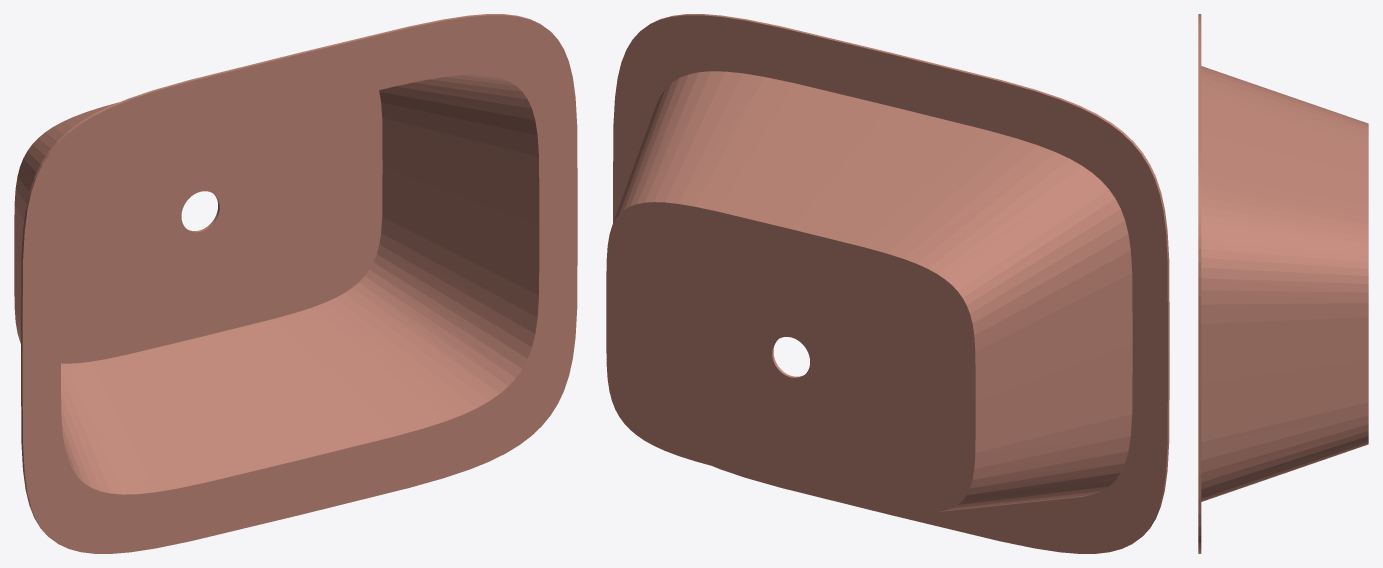
3 renders of one model, left to right at view 1: azimuth 30°, elevation 25°; view 2: azimuth 150°, elevation 25°; view 3: azimuth 270°, elevation 25°, orthographic. The views are drawn at different scales.
Parts seen in each view (by area): view 1: geometry_0; view 2: geometry_0; view 3: geometry_0.
Part boxes in pixels (x1=…): geometry_0: x1=14, y1=14, x2=577, y2=553; geometry_0: x1=606, y1=14, x2=1169, y2=553; geometry_0: x1=1198, y1=14, x2=1368, y2=553.
Bounding box in the file's own units: 580 × 460 × 183.
